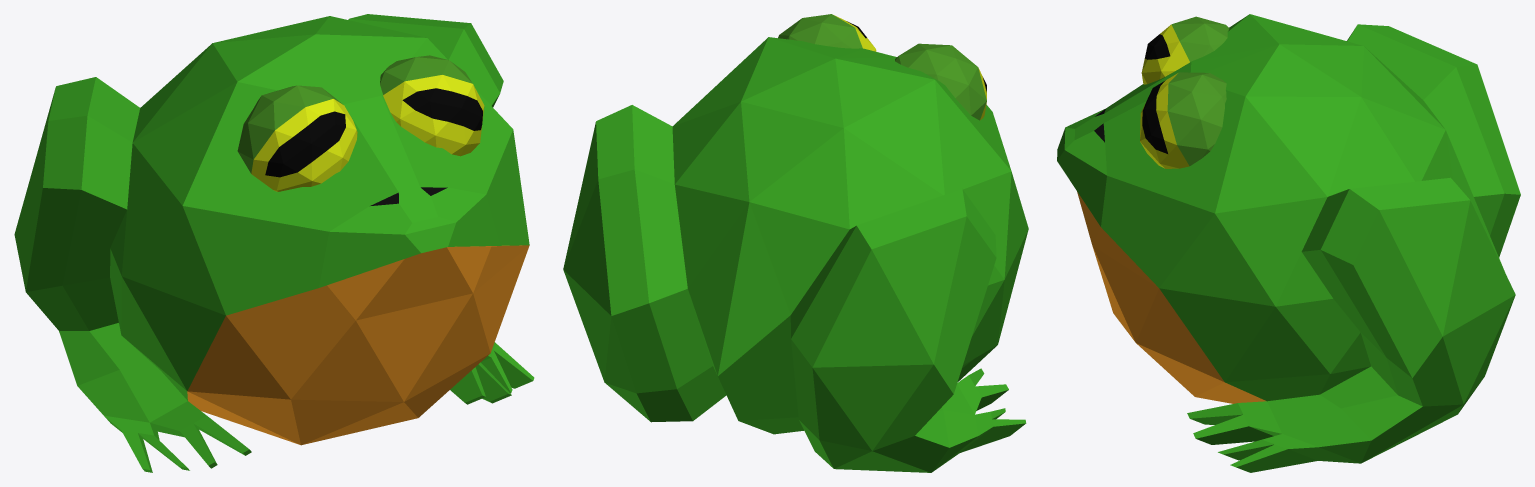
Rendered from Frog.glb.
3 views of the same model, side by side, from view 1: azimuth 30°, elevation 25°; view 2: azimuth 150°, elevation 25°; view 3: azimuth 270°, elevation 25° (orthographic). The views are drawn at different scales.
Visible parts, largest first — view 1: Frog; view 2: Frog; view 3: Frog.
Part boxes in pixels (x1,y1,x2,y2): Frog: [14, 14, 534, 472]; Frog: [563, 14, 1028, 472]; Frog: [1057, 14, 1520, 472].
Size of the model in its own units: 11.02 by 9.09 by 10.78.
